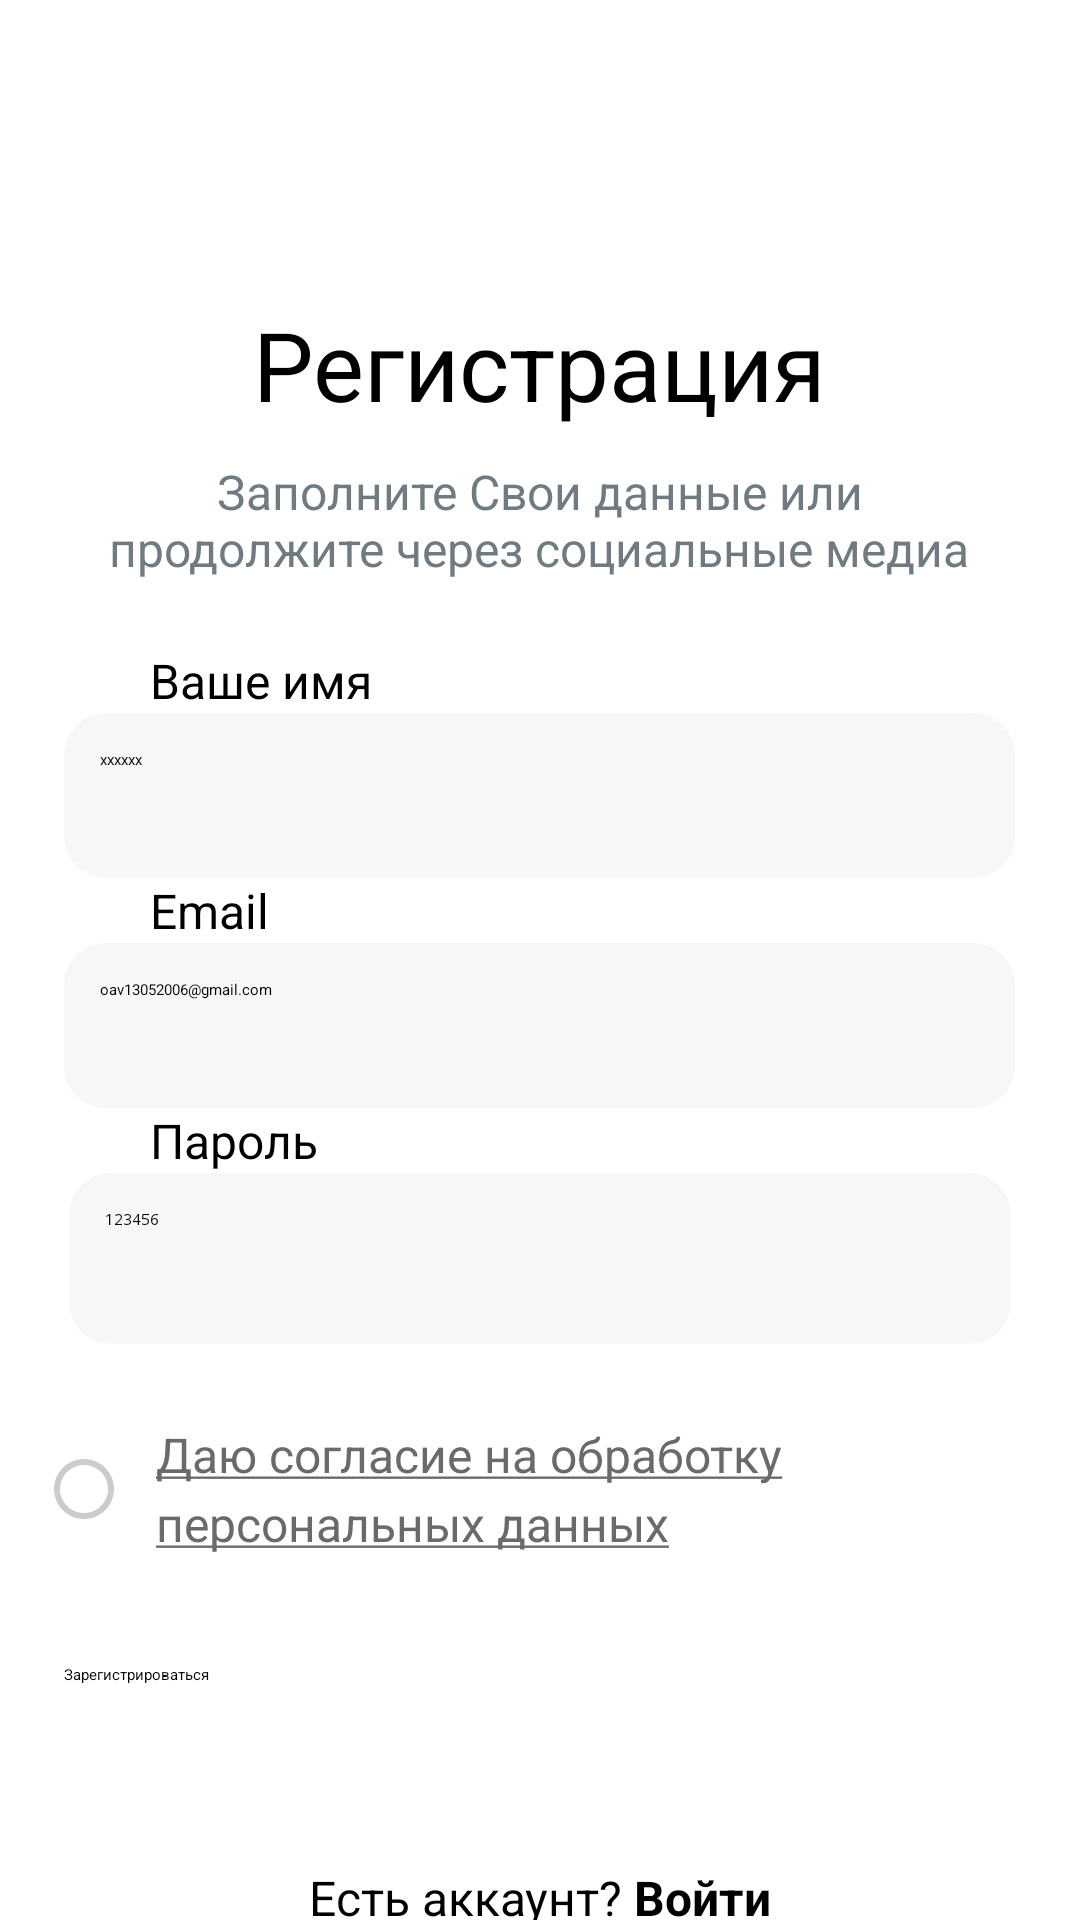

Icons on this 1080*1920 Android screen, each with its box as (x1, y1, x2, y2):
checkbox: (54, 1459, 114, 1519)
